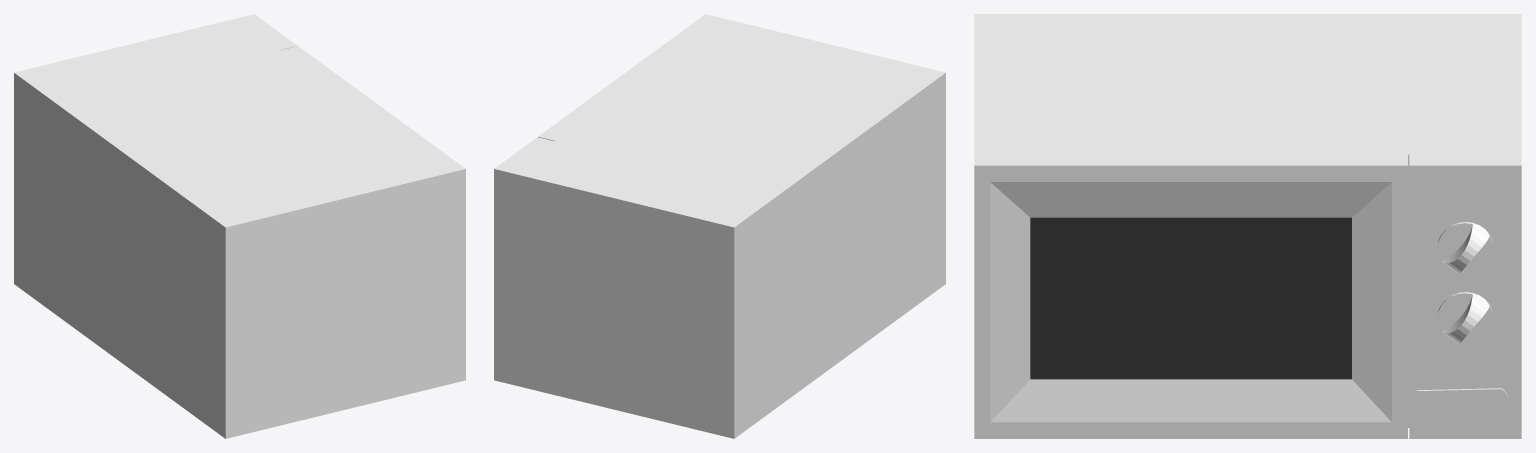
The model's file is microwave.dae.
3 renders of one model, left to right at view 1: azimuth 30°, elevation 25°; view 2: azimuth 150°, elevation 25°; view 3: azimuth 270°, elevation 25°, orthographic. The views are drawn at different scales.
Visible parts, largest first — view 1: SketchUp; view 2: SketchUp; view 3: SketchUp (×6).
Boxes of the visible parts, <box> form: SketchUp: <box>14,14,465,438</box>; SketchUp: <box>494,14,945,438</box>; SketchUp (×6): <box>974,14,1521,438</box>.
Bounding box in the file's own units: 13.46 × 19.21 × 10.79.
2 materials, 2 textured.
